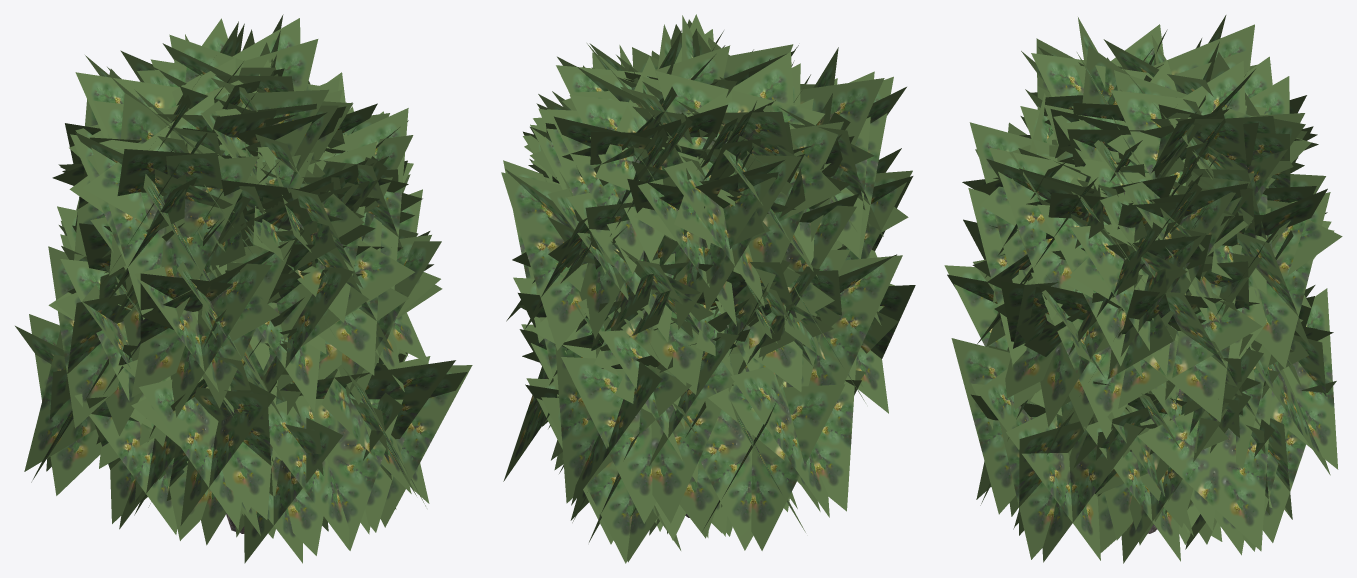
The model's file is Rhamnus_Alaternus_Spring_Adult.glb.
3 views of the same model, side by side, from view 1: azimuth 30°, elevation 25°; view 2: azimuth 150°, elevation 25°; view 3: azimuth 270°, elevation 25° (orthographic). The views are drawn at different scales.
Visible parts, largest first — view 1: Rhamnus_Alaternus_Spring_Adult__LOD3; view 2: Rhamnus_Alaternus_Spring_Adult__LOD3; view 3: Rhamnus_Alaternus_Spring_Adult__LOD3.
Part boxes in pixels (x1=…): Rhamnus_Alaternus_Spring_Adult__LOD3: x1=15, y1=14, x2=472, y2=563; Rhamnus_Alaternus_Spring_Adult__LOD3: x1=501, y1=14, x2=915, y2=563; Rhamnus_Alaternus_Spring_Adult__LOD3: x1=944, y1=15, x2=1342, y2=563.
Size of the model in its own units: 3.45 by 4.23 by 3.36.
2 materials, 2 textured.
